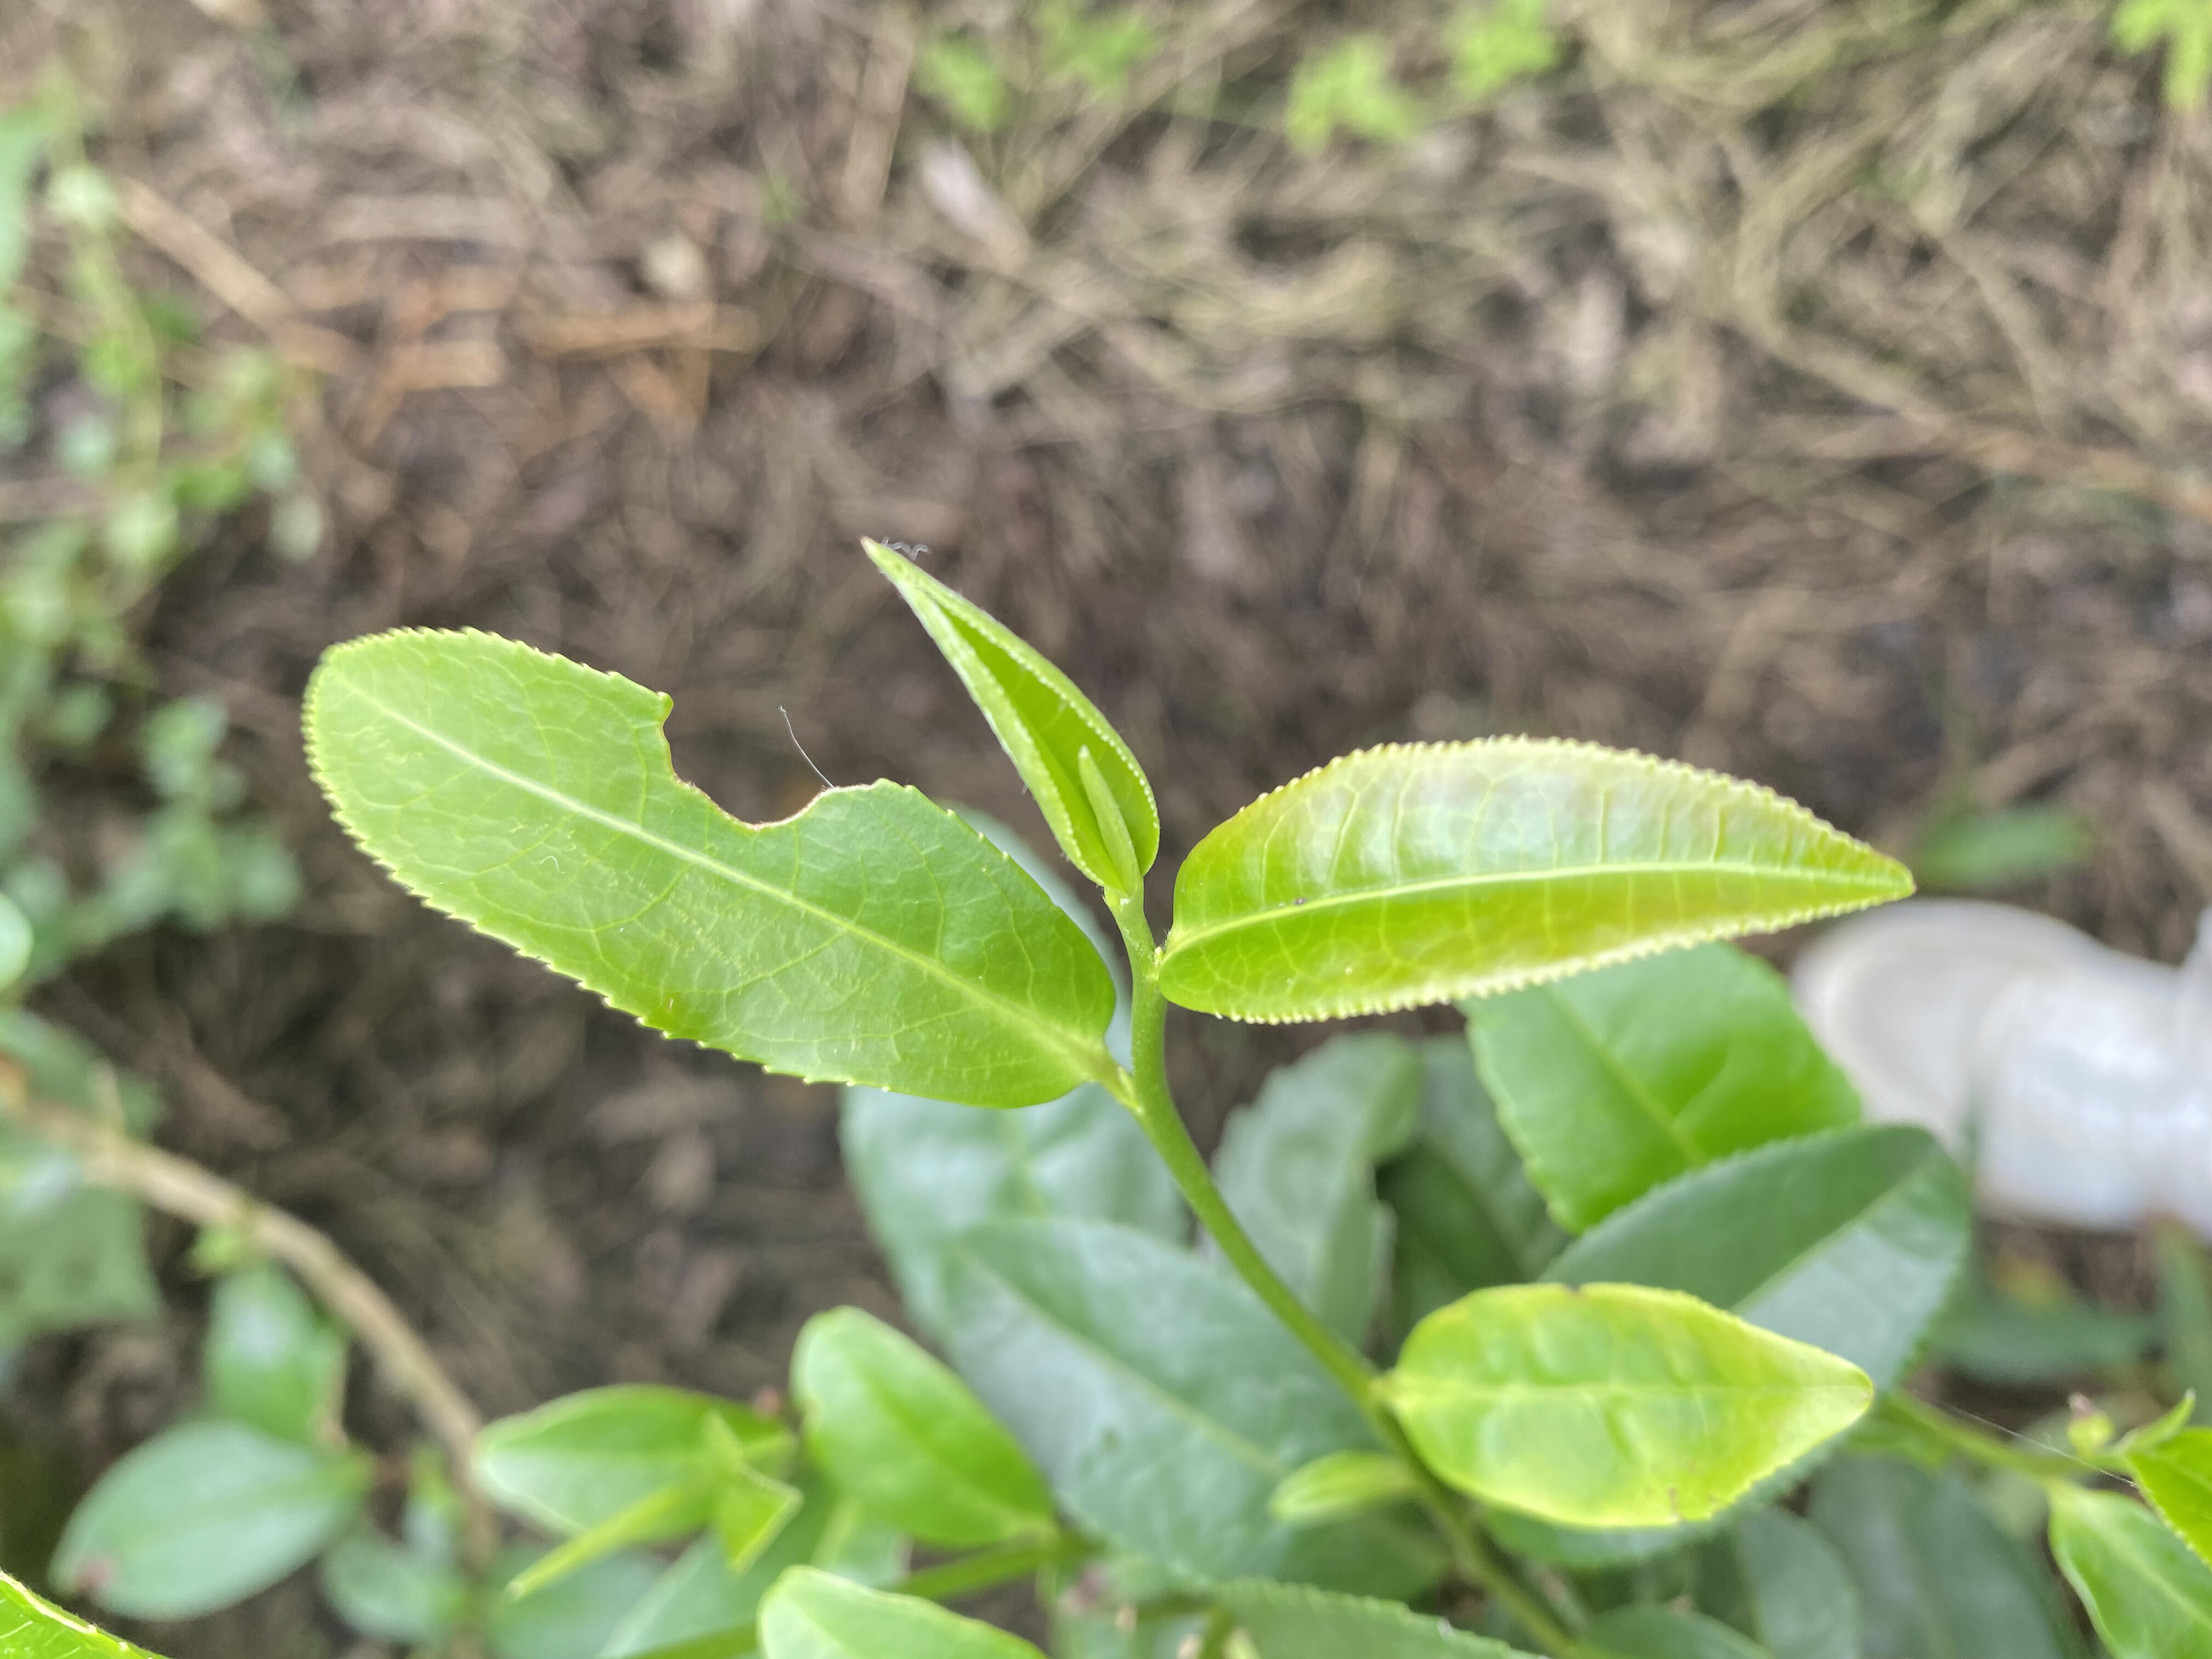chihuo_low: (303, 626, 1115, 1108)
healthy: (1158, 734, 1918, 1032)
